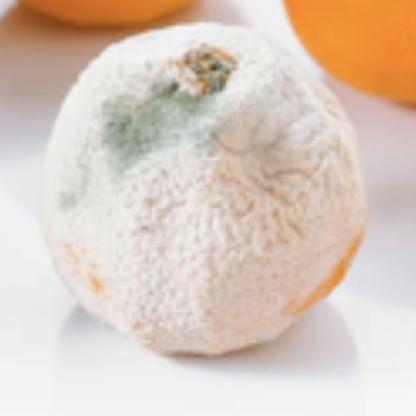rotten: (48, 24, 368, 358)
